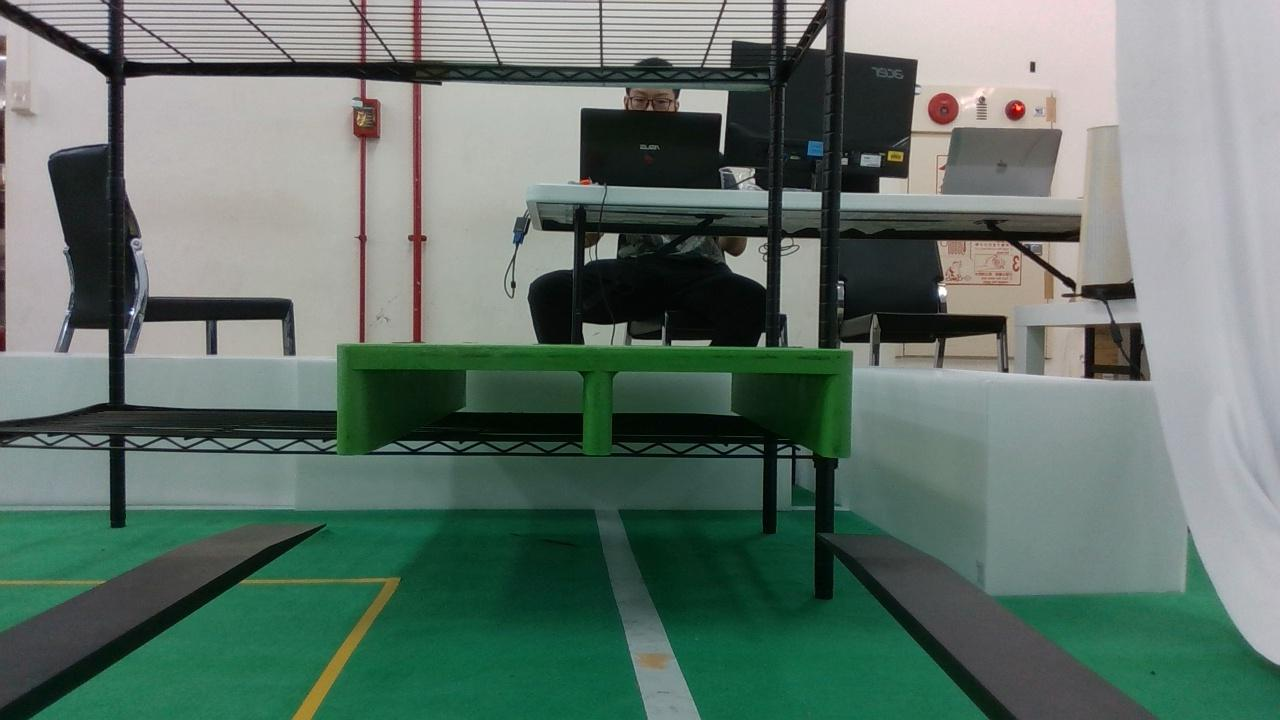Pallet: (336, 344, 853, 450)
